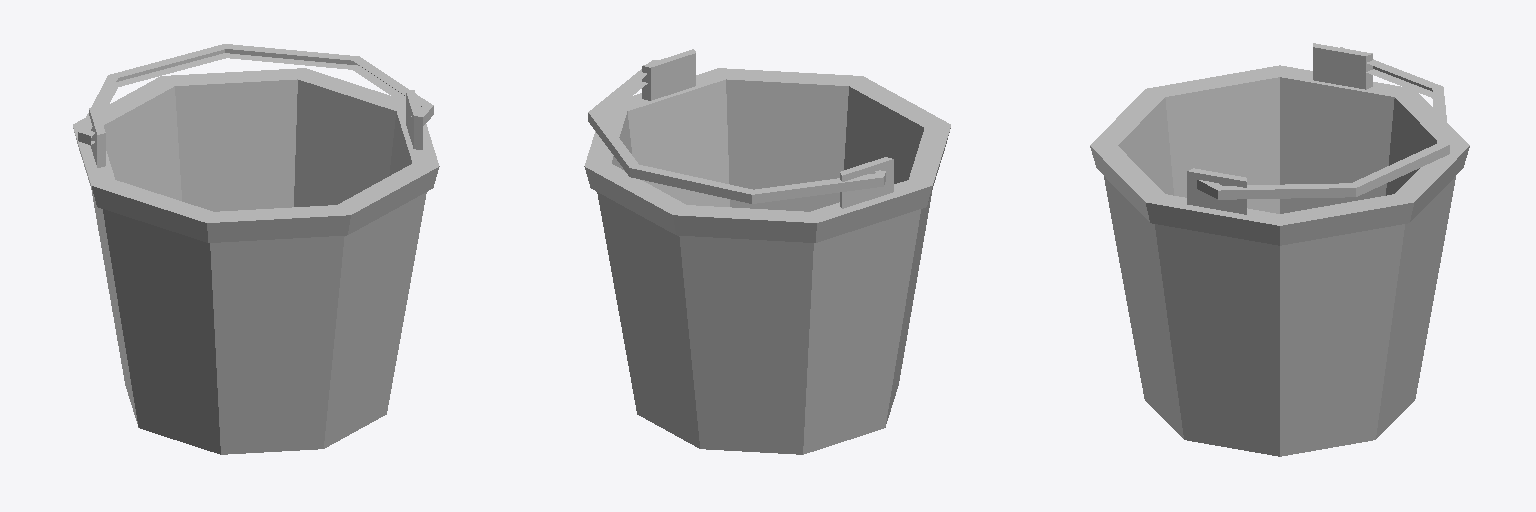
Rendered from Bucket.obj.
The picture shows the model from 3 angles: view 1: azimuth 30°, elevation 25°; view 2: azimuth 150°, elevation 25°; view 3: azimuth 270°, elevation 25°; orthographic projection.
Visible parts, largest first — view 1: group1 pCylinder1, pCylinder2 group1; view 2: group1 pCylinder1, pCylinder2 group1; view 3: group1 pCylinder1, pCylinder2 group1.
Part boxes in pixels (x1,y1,x2,y2): group1 pCylinder1: (73, 68, 439, 454); pCylinder2 group1: (78, 44, 433, 144); group1 pCylinder1: (584, 49, 950, 454); pCylinder2 group1: (588, 60, 885, 203); group1 pCylinder1: (1090, 43, 1469, 456); pCylinder2 group1: (1197, 47, 1449, 199).
Size of the model in its own units: 1.5 by 1.25 by 1.5.